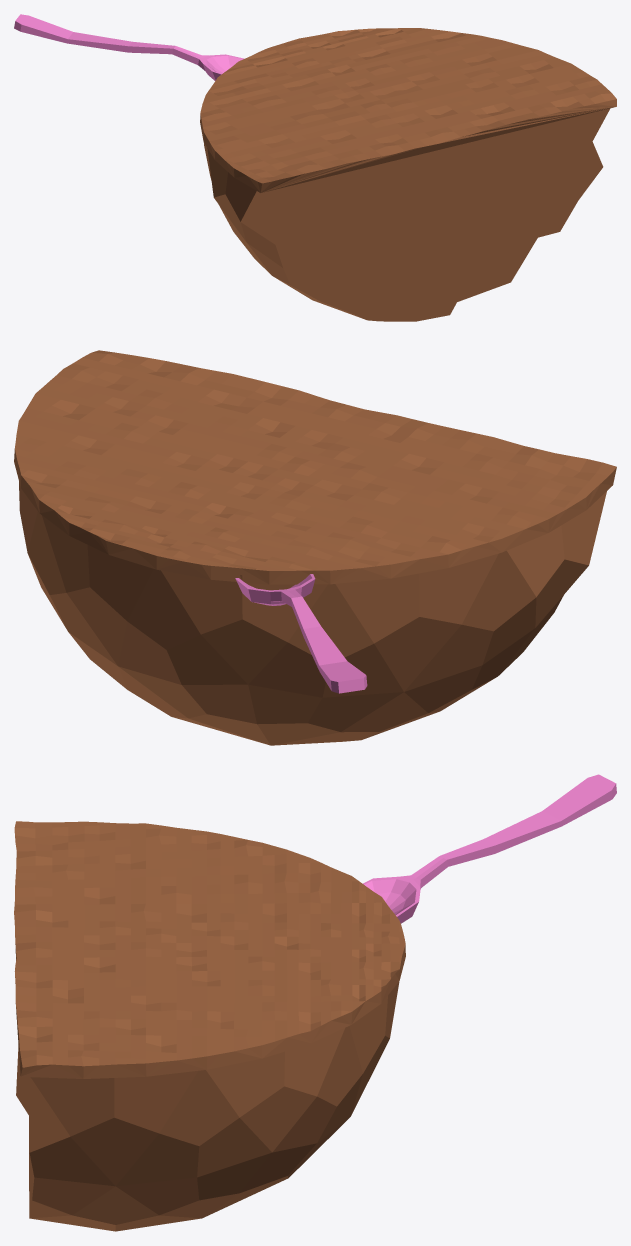
File: ice cream 03.fbx
3 renders of one model, top to bottom at view 1: azimuth 30°, elevation 25°; view 2: azimuth 150°, elevation 25°; view 3: azimuth 270°, elevation 25°, orthographic. The views are drawn at different scales.
Parts seen in each view (by area): view 1: Icosphere, ice cream, SPOON; view 2: ice cream, Icosphere, SPOON; view 3: ice cream, Icosphere, SPOON.
Boxes of the visible parts, box(x1,y1,x2,y2) form: Icosphere: box(204, 108, 610, 321); ice cream: box(200, 28, 616, 192); SPOON: box(14, 14, 244, 80); ice cream: box(14, 350, 616, 584); Icosphere: box(19, 482, 606, 745); SPOON: box(235, 574, 367, 693); ice cream: box(14, 821, 405, 1078); Icosphere: box(16, 981, 399, 1231); SPOON: box(363, 774, 616, 923).
Bounding box in the file's own units: 6553 × 3309 × 6260.
